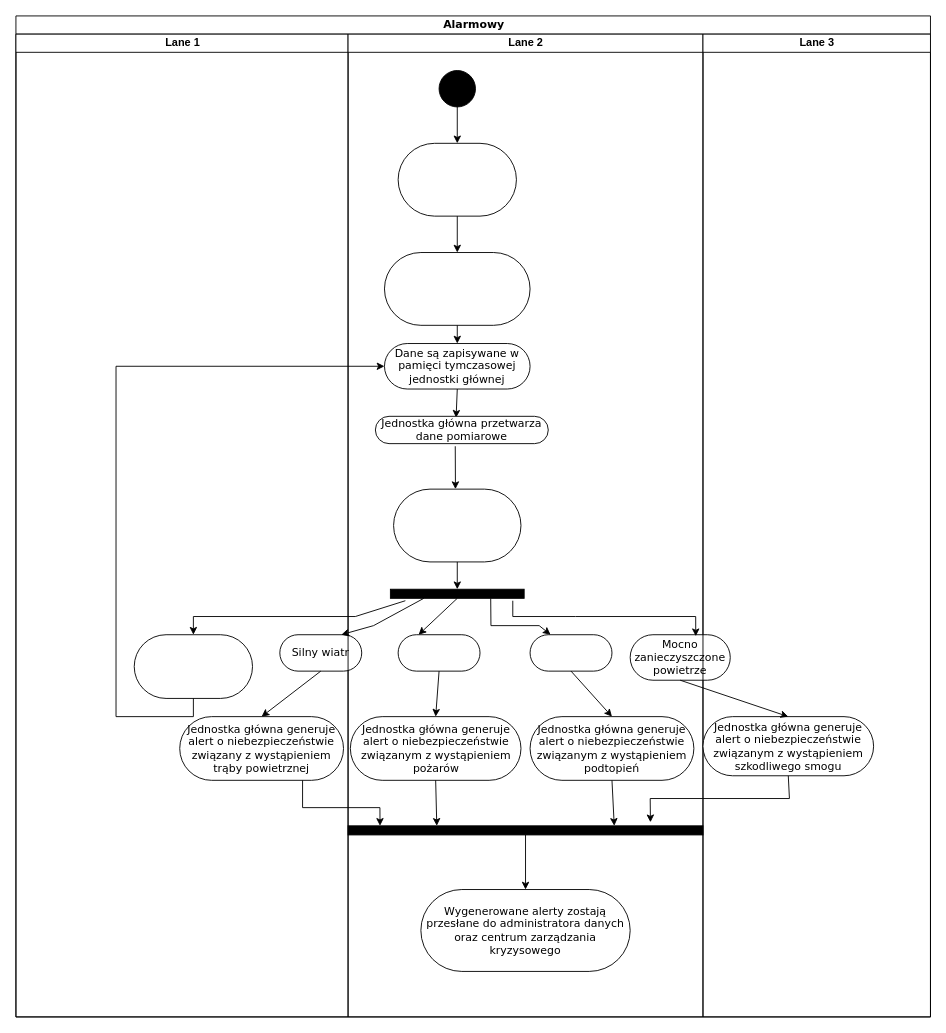
This 946x1033 diagram has some shape labels left out. The shapes that lost their labels are listed below. From the top down, each one's centre as x and y in pixels, then its label:
At pixel 456 179: "Aktywacja czujników pomiarowych".
At pixel 457 288: "Czujniki rejestrują dane pomiarowe w określonym interwale czasowym".
At pixel 457 525: "Jednostka główna generuje raport o warunkach pogodowych".
At pixel 193 666: "Warunki pogodowe w normie".
At pixel 438 652: "Wysoka temperatura".
At pixel 570 652: "Obfite opady deszczu".
